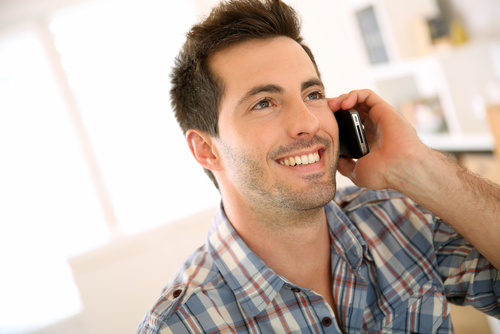phone: (321, 90, 390, 184)
talk: (232, 74, 412, 212)
